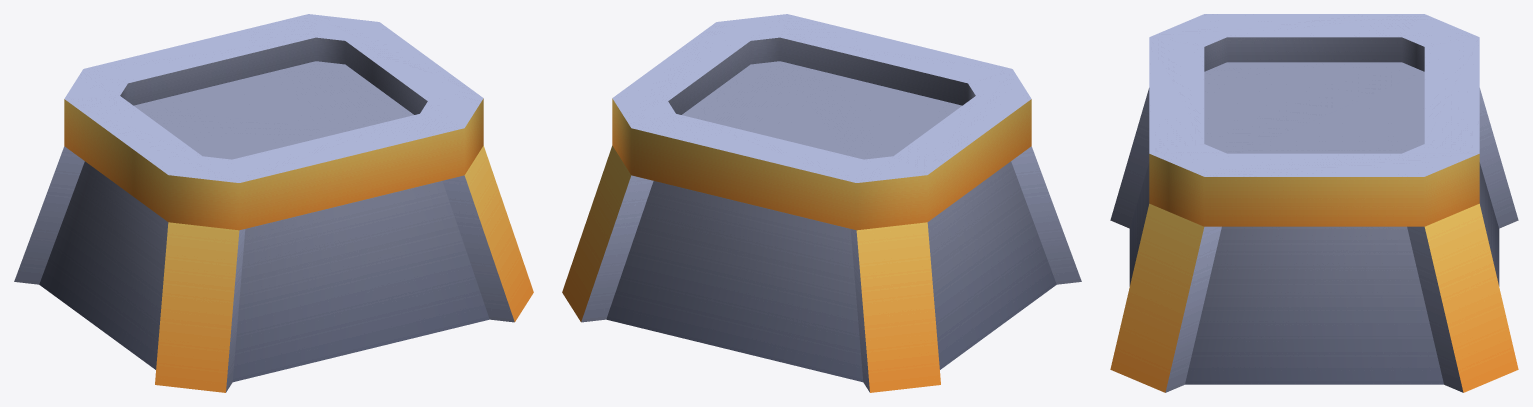
File: table-inset-small.glb
The picture shows the model from 3 angles, left to right: view 1: azimuth 30°, elevation 25°; view 2: azimuth 150°, elevation 25°; view 3: azimuth 270°, elevation 25°; orthographic projection. The views are drawn at different scales.
Visible parts, largest first — view 1: table-inset-small; view 2: table-inset-small; view 3: table-inset-small.
Part boxes in pixels (x1,y1,x2,y2): table-inset-small: [14, 14, 533, 392]; table-inset-small: [562, 14, 1081, 392]; table-inset-small: [1110, 14, 1518, 392].
Bounding box in the file's own units: 0.8414 × 0.4 × 0.7414.
1 material, 1 textured.
